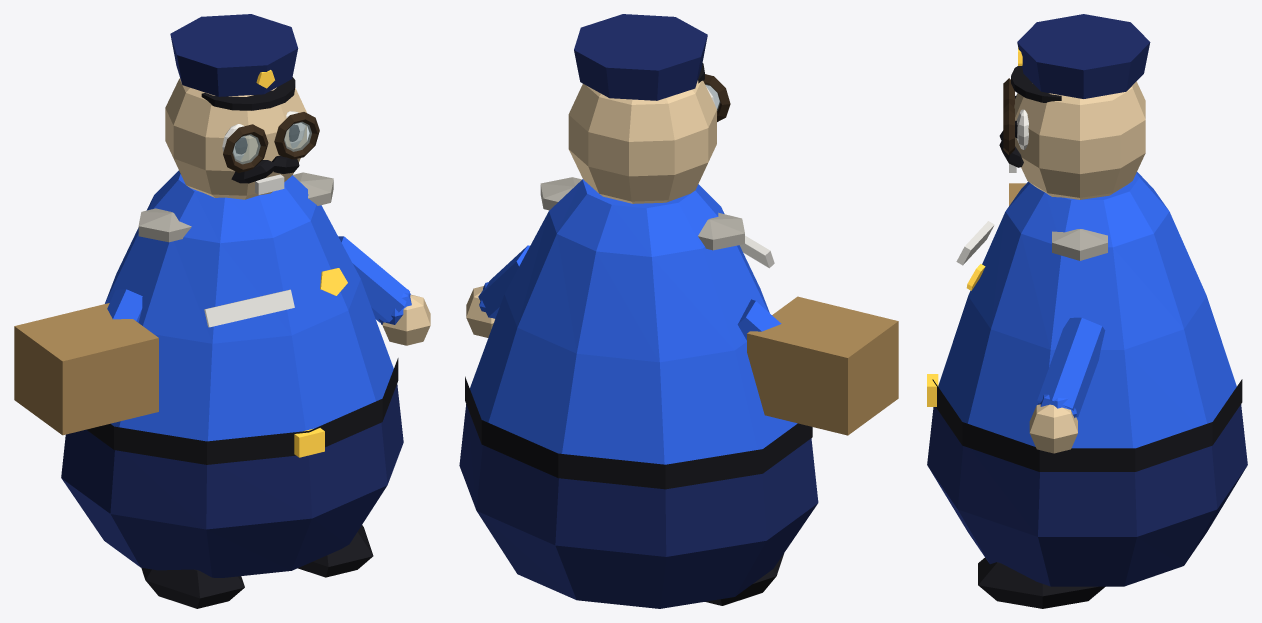
Rendered from npc_polilla.glb.
3 renders of one model, left to right at view 1: azimuth 30°, elevation 25°; view 2: azimuth 150°, elevation 25°; view 3: azimuth 270°, elevation 25°, orthographic. The views are drawn at different scales.
Parts seen in each view (by area): view 1: body_shirt, body_pants, props_evidence_box, cap_cap, head_skin_staff, body_black, legs_black, arms_shirt, face_glasses_thick, body_dust_grey, plate_white, arms_skin_staff (+5 smaller); view 2: body_shirt, body_pants, props_evidence_box, head_skin_staff, cap_cap, body_black, arms_shirt, body_dust_grey, arms_skin_staff, legs_black; view 3: body_shirt, body_pants, head_skin_staff, cap_cap, body_black, arms_shirt, legs_black, arms_skin_staff, body_dust_grey, face_glasses_thick, cap_black, plate_white.
Part boxes in pixels (x1,y1,x2,y2): body_shirt: (105, 170, 393, 441); body_pants: (61, 384, 403, 577); props_evidence_box: (14, 303, 158, 435); cap_cap: (170, 14, 298, 96); head_skin_staff: (165, 78, 306, 199); body_black: (86, 358, 398, 464); legs_black: (141, 525, 373, 608); arms_shirt: (107, 236, 411, 324); face_glasses_thick: (223, 112, 319, 172); body_dust_grey: (138, 172, 333, 242); plate_white: (204, 289, 294, 327); arms_skin_staff: (382, 294, 430, 345); body_shirt: (470, 179, 797, 464); body_pants: (459, 404, 818, 608); props_evidence_box: (747, 296, 898, 435); head_skin_staff: (568, 80, 716, 203); cap_cap: (574, 14, 707, 100); body_black: (465, 376, 812, 489); arms_shirt: (478, 245, 781, 340); body_dust_grey: (540, 177, 744, 250); arms_skin_staff: (466, 286, 494, 337); legs_black: (705, 553, 784, 605); body_shirt: (938, 172, 1236, 448); body_pants: (927, 404, 1247, 586); head_skin_staff: (1014, 81, 1145, 199); cap_cap: (1017, 14, 1150, 98); body_black: (932, 379, 1242, 471); arms_shirt: (1037, 317, 1105, 417); legs_black: (978, 558, 1105, 608); arms_skin_staff: (1029, 404, 1077, 453); body_dust_grey: (1052, 229, 1107, 260); face_glasses_thick: (1003, 78, 1014, 155); cap_black: (1011, 66, 1061, 102); plate_white: (956, 221, 994, 265).
Bounding box in the file's own units: 1.21 × 1.56 × 0.86.
